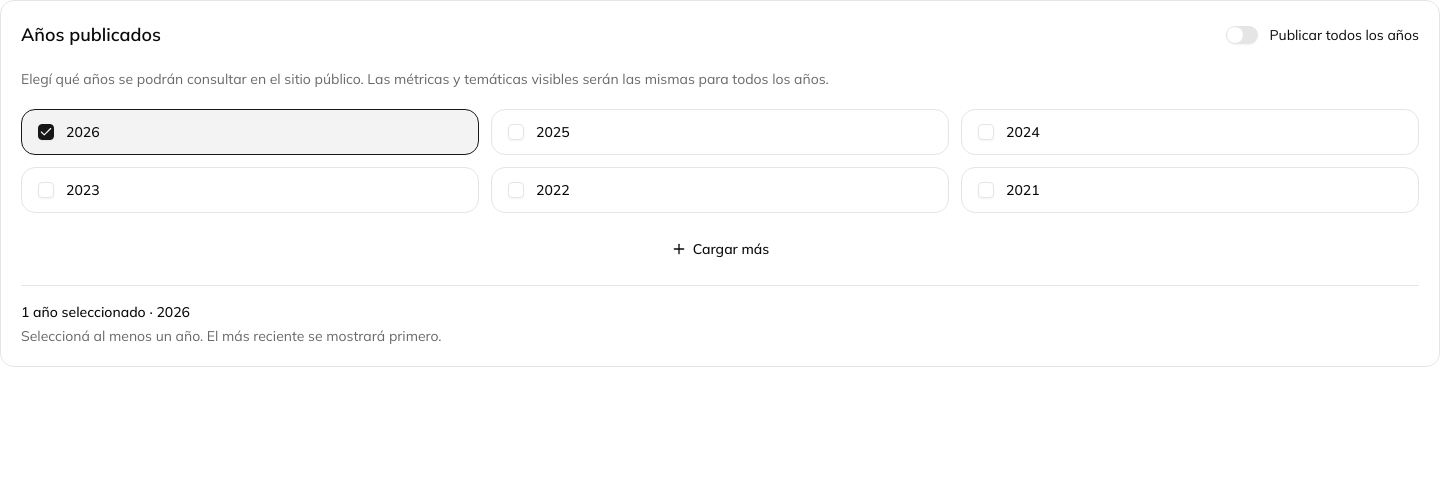
selects all years including hidden options and preserves them when loading more
This screenshot has width=1440, height=500.
Click the switch named "Publicar todos los años".
click(1242, 35)  # box [1226,26,1258,44]
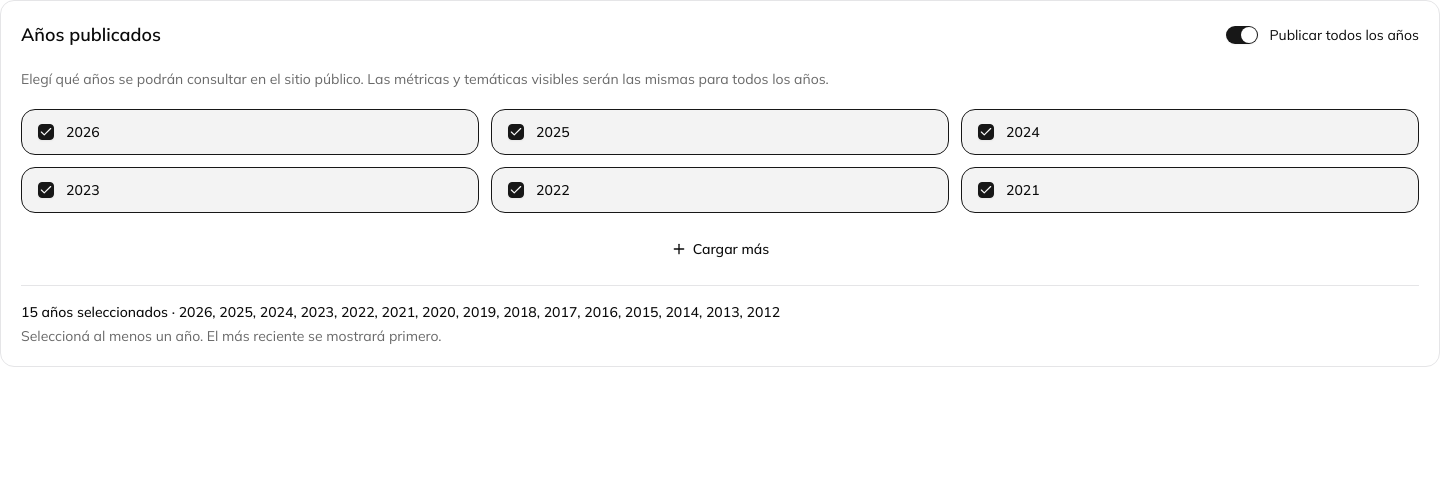
Check: the number of checkboxes is 6, box [38,124,54,140]; [508,124,524,140]; [978,124,994,140]; [38,182,54,198]; [508,182,524,198]; [978,182,994,198]
Check: the message shows "15 años seleccionados", box [21,303,168,321]
Click the button "Cargar más".
click(720, 249)  # box [661,233,779,265]
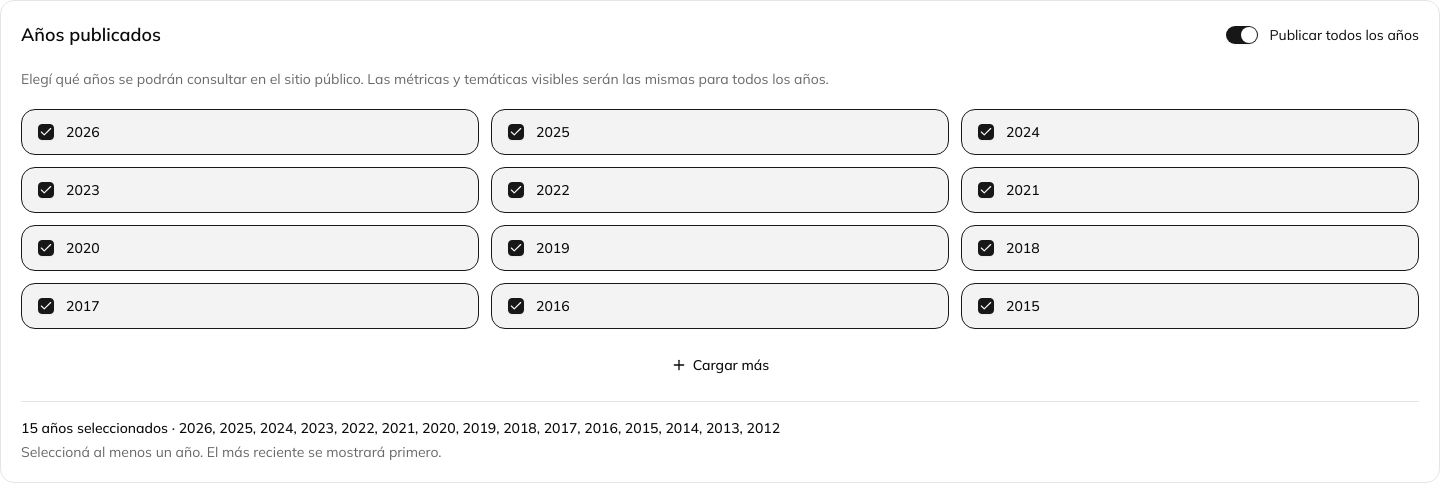
Check: the number of checkboxes is 12
